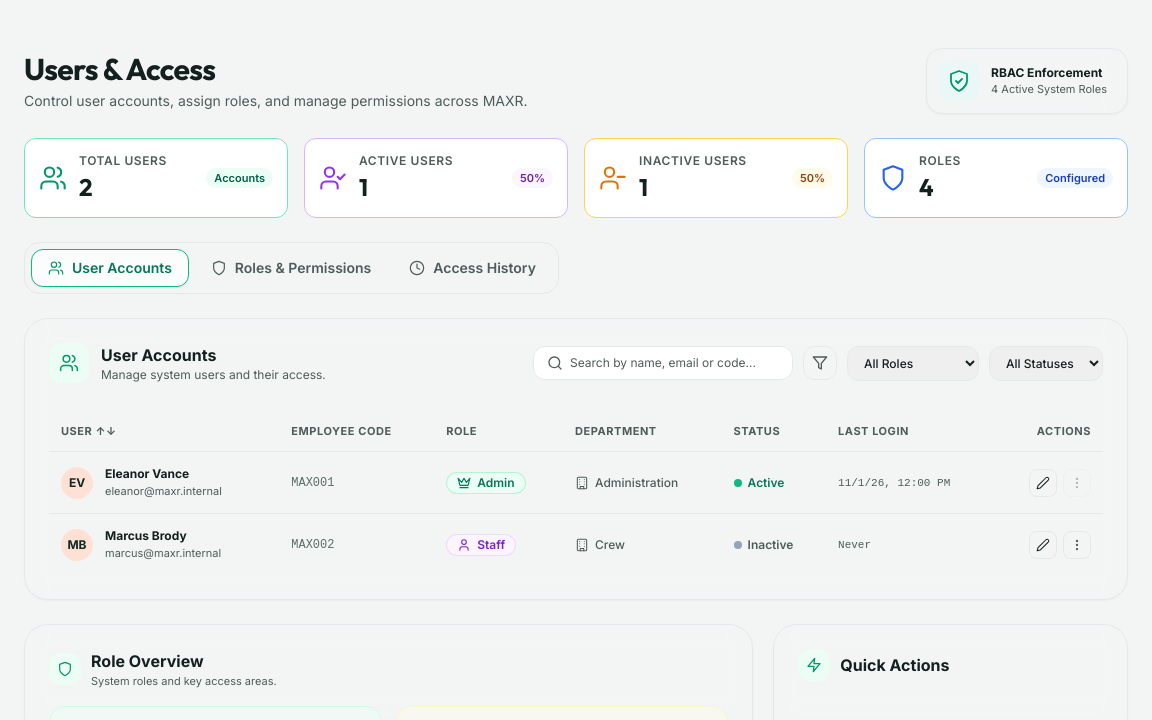
Test: UsersPage Component Suite (Issue #27) › switches between User Accounts and Roles & Permissions tabs
Expected: the text "Eleanor Vance" is shown, x1=105 y1=466 x2=189 y2=481
Switch to Roles & Permissions tab
Click the button "Roles & Permissions" at (291, 268), box x1=195 y1=250 x2=387 y2=286
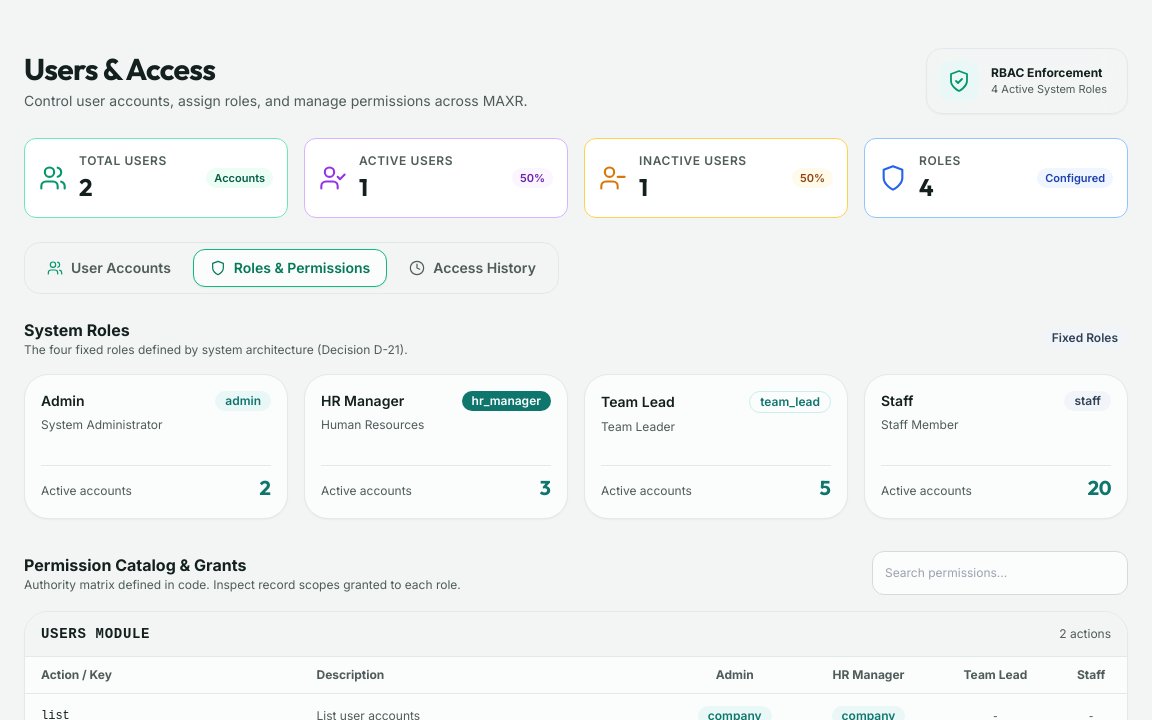
Expected: the element with test id "users-roles-tab" is shown, x1=24 y1=318 x2=1128 y2=719
Expected: the element with test id "roles-summary-grid" is shown, x1=24 y1=318 x2=1128 y2=519
Expected: the element with test id "permissions-matrix" is shown, x1=24 y1=551 x2=1128 y2=719
